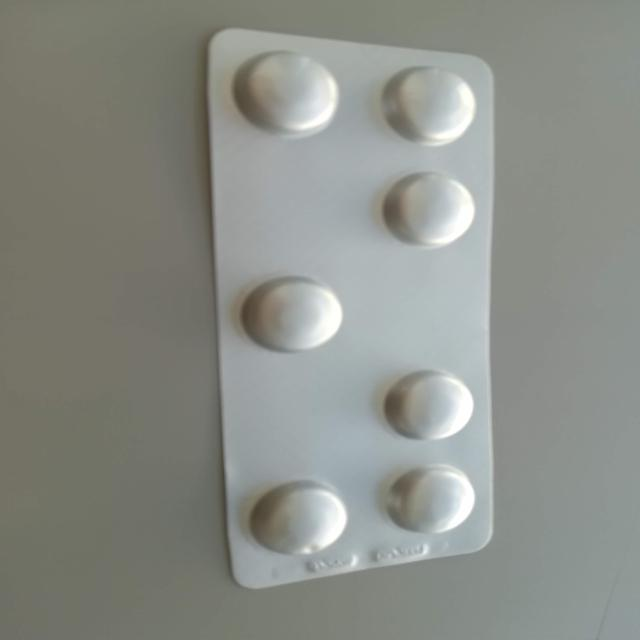Pill: (229, 47, 342, 137), (238, 276, 344, 354), (379, 64, 477, 145), (381, 171, 479, 250), (247, 482, 350, 557), (384, 367, 474, 444), (386, 464, 478, 536)
